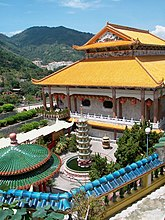Buddhist Temple: (37, 17, 165, 134)
